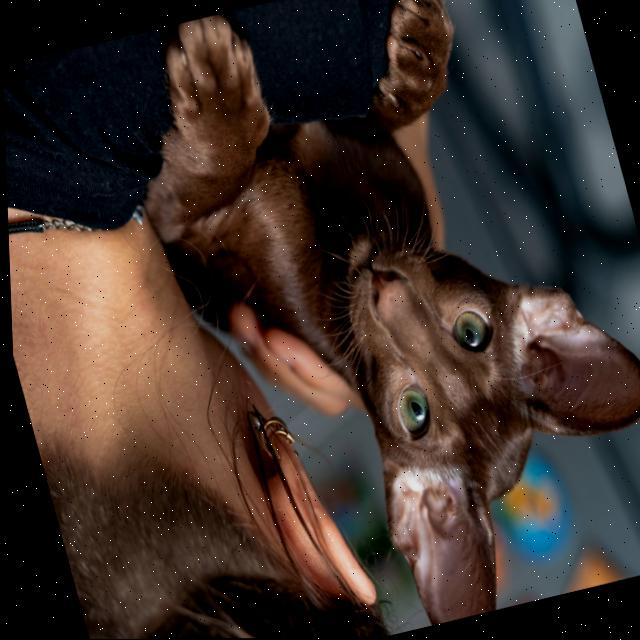Oriental: (103, 0, 640, 639)
